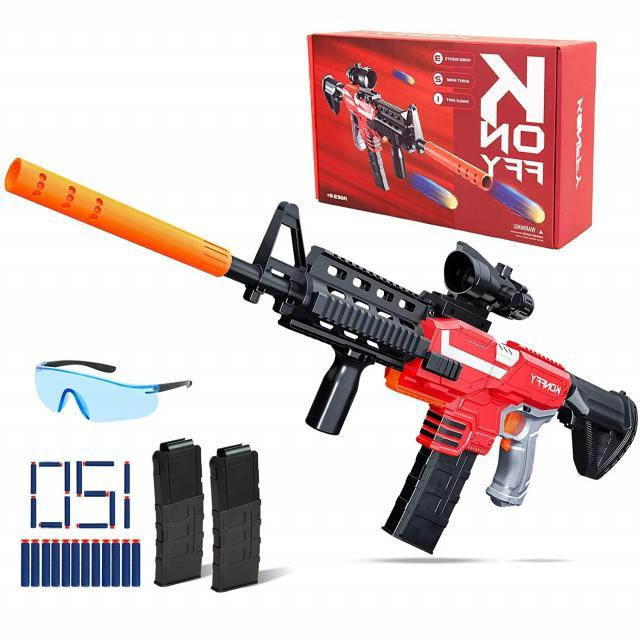rifle: (231, 201, 635, 579), (323, 61, 424, 194)
scope: (427, 237, 548, 331)
